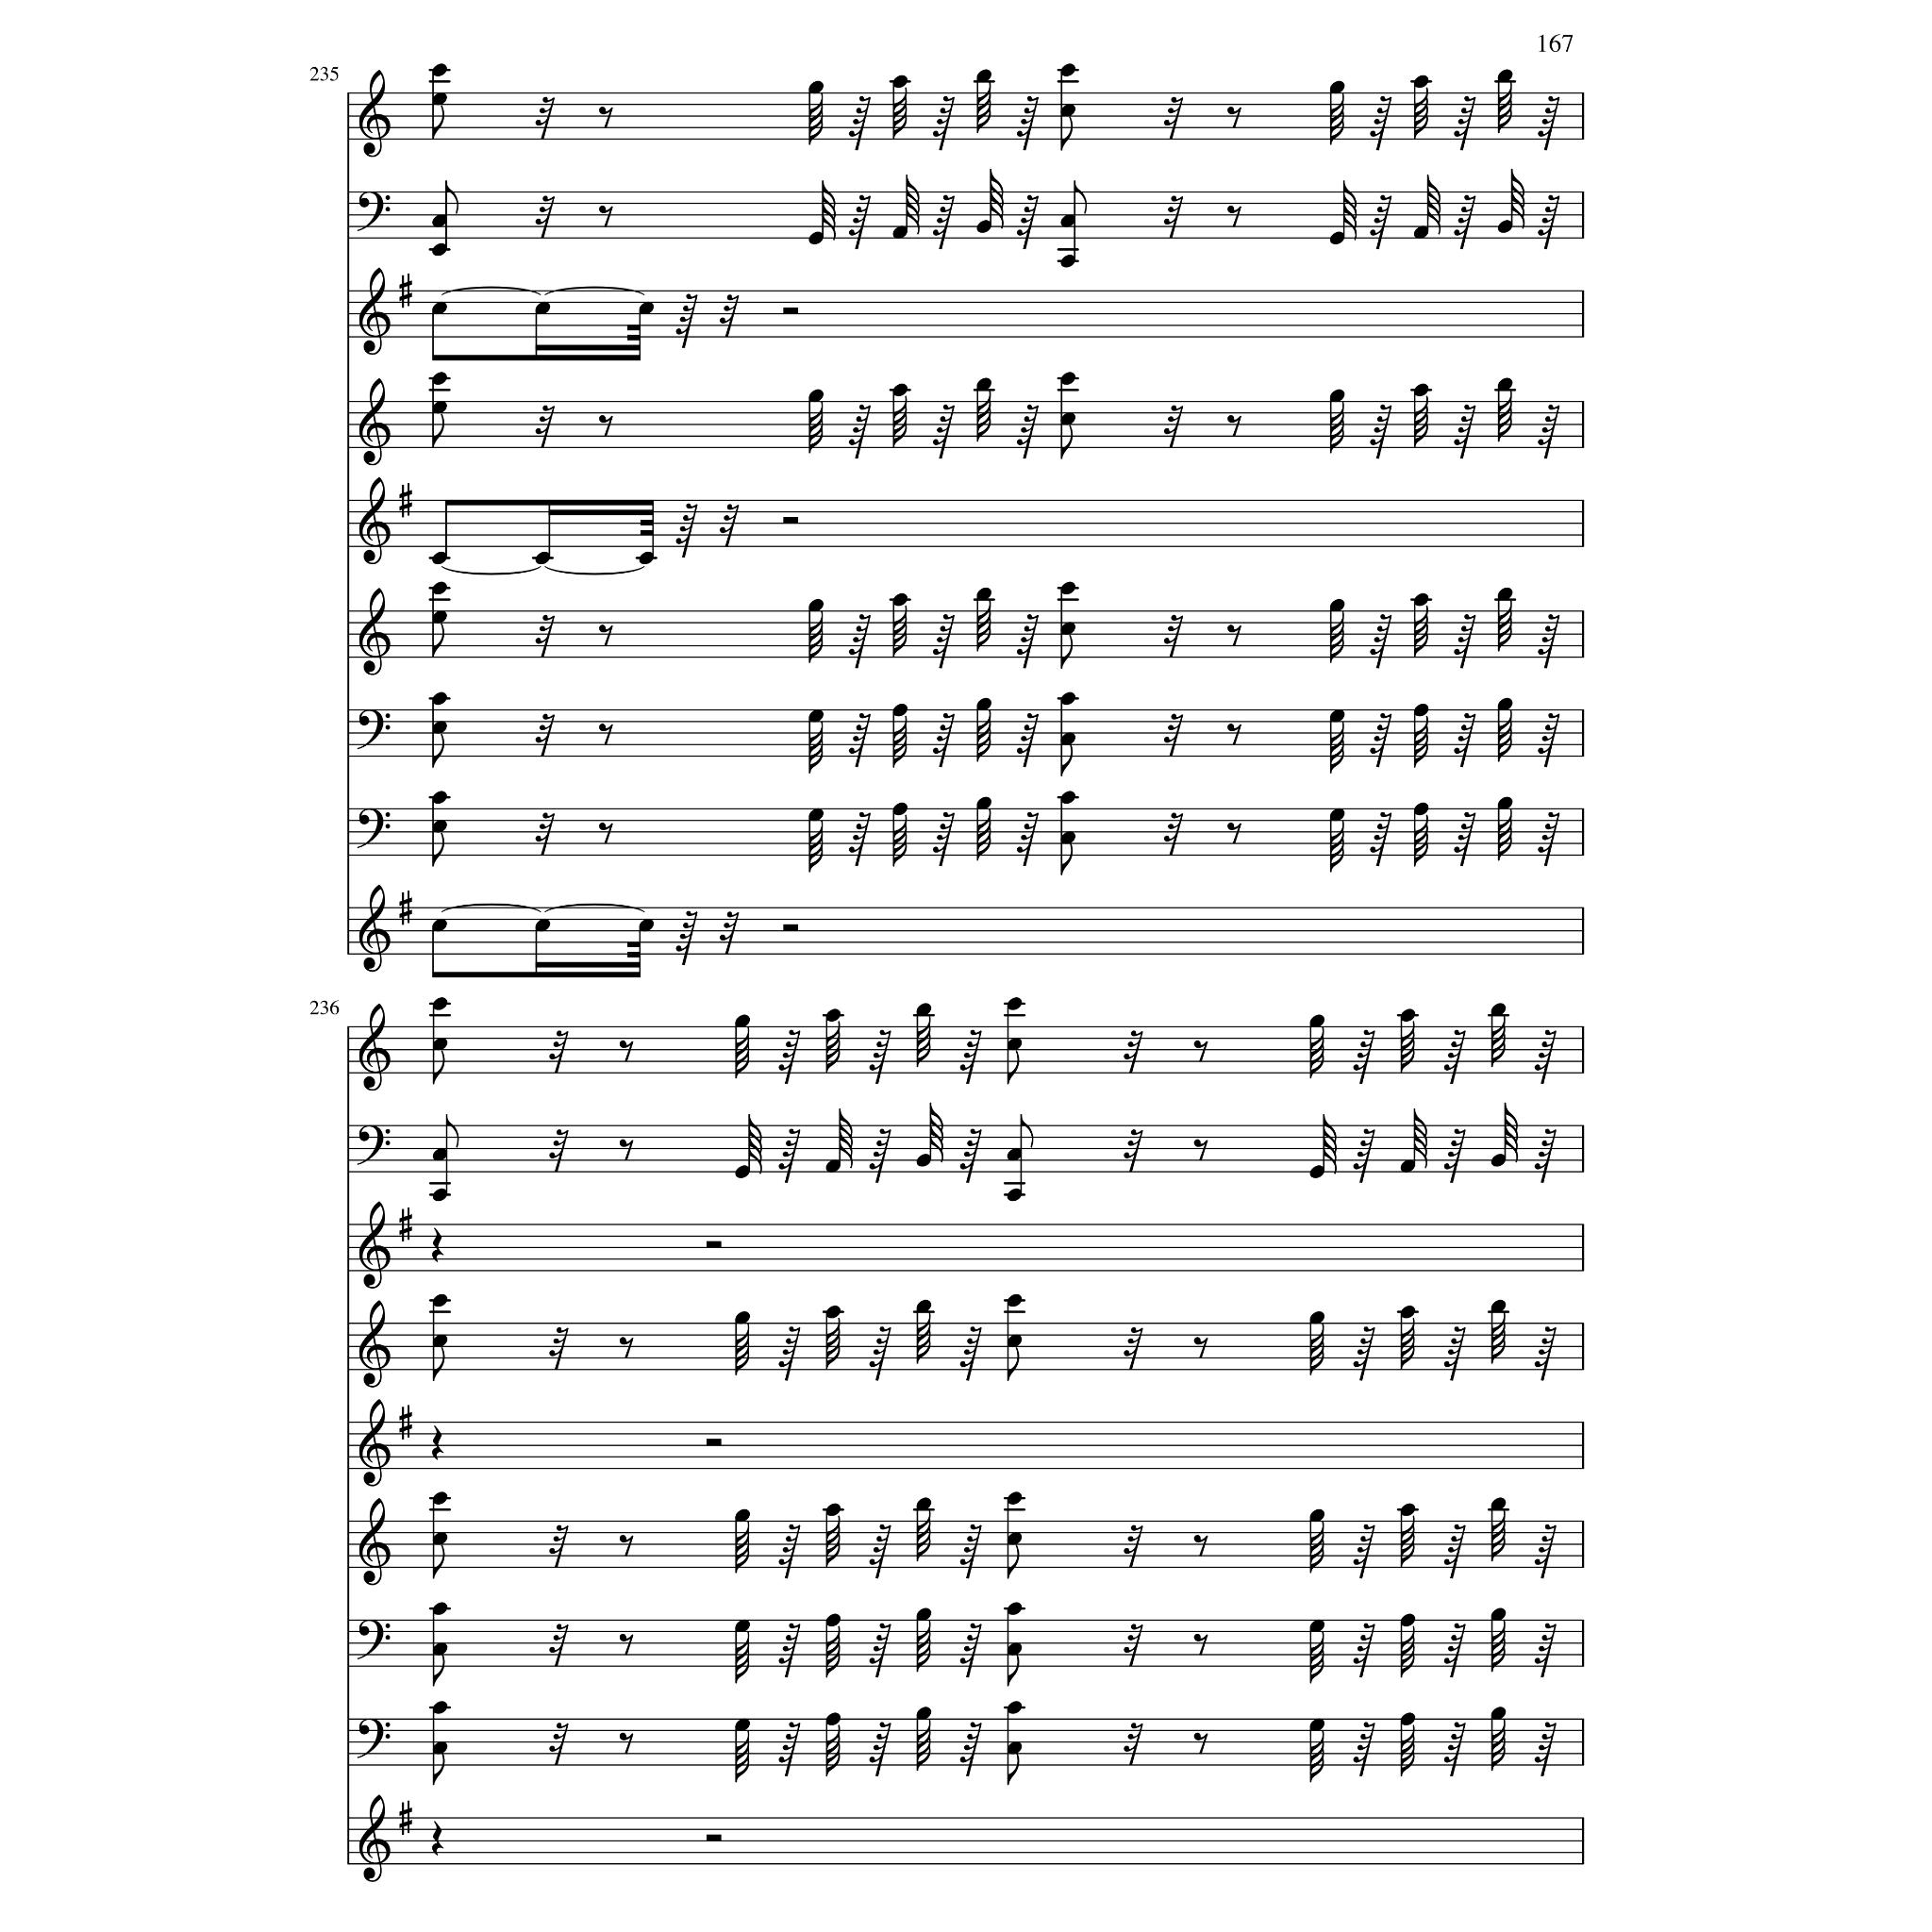fClef: (357, 191, 391, 232), (357, 709, 391, 751), (357, 1124, 391, 1166), (357, 1619, 391, 1660), (357, 809, 391, 849), (357, 1719, 391, 1758)
flag64thDown: (1497, 390, 1512, 442), (1497, 599, 1512, 652), (1497, 709, 1512, 762), (1497, 808, 1512, 861), (1413, 87, 1428, 140), (1413, 395, 1428, 448), (1497, 81, 1512, 134), (1413, 715, 1428, 768), (1413, 814, 1428, 867), (892, 87, 908, 140), (892, 395, 908, 448), (892, 814, 908, 867), (892, 715, 908, 768), (1309, 1631, 1324, 1684), (1309, 1730, 1324, 1783), (1309, 1026, 1324, 1079), (1309, 1323, 1324, 1375), (1309, 1521, 1324, 1574), (1491, 1719, 1506, 1772), (1491, 1311, 1506, 1364), (1491, 1509, 1506, 1562), (1491, 1620, 1506, 1673), (1491, 1014, 1506, 1067), (1400, 1317, 1415, 1370), (1400, 1021, 1415, 1074), (1400, 1515, 1415, 1568), (1400, 1625, 1415, 1678), (1400, 1724, 1415, 1777), (916, 1509, 931, 1562), (916, 1311, 931, 1364), (916, 1620, 931, 1673), (916, 1719, 931, 1772), (916, 1014, 931, 1067), (735, 1323, 750, 1375), (735, 1521, 750, 1574), (735, 1631, 750, 1684), (735, 1730, 750, 1783), (735, 1026, 750, 1079), (1413, 606, 1428, 657), (892, 606, 908, 657), (1330, 401, 1343, 454), (1330, 610, 1343, 663), (1330, 722, 1343, 774), (1330, 93, 1343, 146), (977, 808, 991, 861), (977, 81, 991, 134), (977, 390, 991, 442), (977, 599, 991, 652), (977, 709, 991, 762), (809, 401, 823, 454), (809, 610, 823, 663), (809, 722, 823, 774), (809, 93, 823, 146), (826, 1724, 840, 1777), (826, 1021, 840, 1074), (826, 1317, 840, 1370), (826, 1515, 840, 1568), (826, 1625, 840, 1678), (1330, 821, 1343, 872), (809, 821, 823, 872)
flag64thUp: (1426, 175, 1441, 236), (906, 175, 921, 236), (1504, 1103, 1519, 1163), (1343, 181, 1357, 241), (991, 170, 1004, 230), (1511, 170, 1524, 230), (823, 181, 836, 241), (1324, 1114, 1337, 1174), (1414, 1108, 1427, 1169), (840, 1108, 853, 1169), (930, 1103, 943, 1163), (749, 1114, 762, 1174)
flag8thDown: (1060, 635, 1074, 669), (1060, 425, 1074, 459), (1060, 742, 1074, 776), (1060, 841, 1074, 875), (1060, 117, 1074, 151), (432, 833, 445, 867), (432, 624, 445, 658), (432, 734, 445, 768), (432, 106, 445, 140), (432, 414, 445, 448), (432, 1347, 445, 1381), (432, 1545, 445, 1579), (432, 1653, 445, 1687), (432, 1751, 445, 1785), (432, 1051, 445, 1085), (1008, 1051, 1019, 1085), (1008, 1751, 1019, 1785), (1008, 1347, 1019, 1381), (1008, 1545, 1019, 1579), (1008, 1653, 1019, 1687)
flag8thUp: (1074, 181, 1087, 215), (445, 181, 458, 215), (1020, 1114, 1033, 1148), (446, 1114, 459, 1148)
gClef: (358, 267, 391, 356), (358, 377, 391, 466), (358, 476, 391, 565), (358, 588, 391, 676), (358, 69, 391, 158), (358, 884, 391, 973), (358, 1003, 391, 1091), (358, 1201, 391, 1290), (358, 1300, 391, 1389), (358, 1399, 391, 1488), (358, 1497, 391, 1586), (358, 1794, 391, 1883)
noteheadBlack: (430, 791, 447, 806), (430, 400, 447, 415), (430, 372, 447, 387), (430, 819, 447, 834), (734, 1717, 751, 1732), (1060, 411, 1075, 426), (1060, 372, 1075, 387), (1060, 732, 1075, 747), (1060, 791, 1075, 806), (1309, 1717, 1324, 1732), (1328, 709, 1345, 723), (1328, 81, 1345, 94), (1328, 232, 1345, 245), (1328, 390, 1345, 403), (1328, 599, 1345, 612), (1328, 808, 1345, 822), (1496, 70, 1513, 83), (1496, 221, 1513, 234), (1496, 378, 1513, 391), (1496, 588, 1513, 601), (1496, 698, 1513, 711), (1496, 797, 1513, 810), (534, 919, 551, 932), (534, 302, 551, 315), (534, 552, 551, 565), (638, 302, 655, 315), (638, 919, 655, 932), (430, 919, 447, 932), (430, 92, 447, 106), (638, 552, 655, 565), (430, 64, 447, 77), (430, 243, 447, 257), (430, 214, 447, 227), (430, 302, 447, 315), (430, 552, 447, 565), (430, 610, 447, 624), (430, 582, 447, 595), (430, 722, 447, 735), (430, 692, 447, 706), (975, 70, 992, 83), (975, 221, 992, 234), (975, 378, 992, 391), (975, 588, 992, 601), (975, 698, 992, 711), (975, 797, 992, 810), (808, 709, 824, 723), (808, 81, 824, 94), (808, 232, 824, 245), (808, 390, 824, 403), (808, 599, 824, 612), (808, 808, 824, 822), (1006, 1335, 1023, 1348), (1006, 1038, 1023, 1051), (1006, 997, 1023, 1010), (1006, 1189, 1023, 1202), (1006, 1148, 1023, 1161), (1006, 1294, 1023, 1307), (1006, 1532, 1023, 1545), (1006, 1491, 1023, 1505), (1006, 1642, 1023, 1656), (1006, 1602, 1023, 1615), (1006, 1741, 1023, 1755), (1006, 1701, 1023, 1714), (915, 1004, 932, 1017), (915, 1154, 932, 1167), (915, 1300, 932, 1313), (915, 1497, 932, 1510), (915, 1608, 932, 1622), (915, 1707, 932, 1720), (734, 1509, 751, 1523), (734, 1015, 751, 1028), (734, 1165, 751, 1178), (734, 1311, 751, 1324), (734, 1620, 751, 1633), (824, 1159, 841, 1173), (824, 1008, 841, 1022), (824, 1613, 841, 1626), (824, 1712, 841, 1725), (824, 1504, 841, 1517), (824, 1306, 841, 1319), (1060, 104, 1075, 117), (1060, 64, 1075, 77), (1060, 255, 1075, 268), (1060, 214, 1075, 227), (1060, 623, 1075, 636), (1060, 582, 1075, 595), (1060, 692, 1075, 706), (1060, 831, 1075, 844), (1413, 384, 1428, 397), (1413, 593, 1428, 607), (1413, 704, 1428, 717), (1413, 803, 1428, 816), (1413, 226, 1428, 240), (1413, 75, 1428, 89), (892, 75, 908, 89), (892, 226, 908, 240), (892, 384, 908, 397), (892, 593, 908, 607), (892, 704, 908, 717), (892, 803, 908, 816), (1309, 1509, 1324, 1523), (1309, 1015, 1324, 1028), (1309, 1165, 1324, 1178), (1309, 1311, 1324, 1324), (1309, 1620, 1324, 1633), (1400, 1008, 1415, 1022), (1400, 1159, 1415, 1173), (1400, 1306, 1415, 1319), (1400, 1504, 1415, 1517), (1400, 1613, 1415, 1626), (1400, 1712, 1415, 1725), (1491, 1004, 1506, 1017), (1491, 1154, 1506, 1167), (1491, 1300, 1506, 1313), (1491, 1497, 1506, 1510), (1491, 1608, 1506, 1622), (1491, 1707, 1506, 1720), (432, 1294, 447, 1307), (432, 1532, 447, 1545), (432, 1491, 447, 1505), (432, 1642, 447, 1656), (432, 1602, 447, 1615), (432, 1741, 447, 1755), (432, 1701, 447, 1714), (432, 1335, 447, 1348), (432, 1038, 447, 1051), (432, 997, 447, 1010), (432, 1189, 447, 1202), (432, 1148, 447, 1161)
rest8th: (1226, 415, 1241, 438), (1226, 625, 1241, 647), (1226, 206, 1241, 228), (1226, 724, 1241, 746), (1226, 823, 1241, 845), (1226, 107, 1241, 129), (598, 107, 613, 129), (598, 206, 613, 228), (598, 415, 613, 438), (598, 625, 613, 647), (598, 724, 613, 746), (598, 823, 613, 845), (1193, 1040, 1208, 1062), (1193, 1139, 1208, 1161), (1193, 1337, 1208, 1359), (1193, 1535, 1208, 1557), (1193, 1633, 1208, 1656), (1193, 1732, 1208, 1755), (619, 1139, 634, 1161), (619, 1040, 634, 1062), (619, 1337, 634, 1359), (619, 1535, 634, 1557), (619, 1633, 634, 1656), (619, 1732, 634, 1755)
restHalf: (783, 308, 798, 315), (783, 517, 798, 525), (783, 924, 798, 932), (706, 1241, 721, 1248), (706, 1834, 721, 1841), (706, 1439, 721, 1446)
restQuarter: (432, 1425, 443, 1461), (432, 1821, 443, 1857), (432, 1227, 443, 1263)
